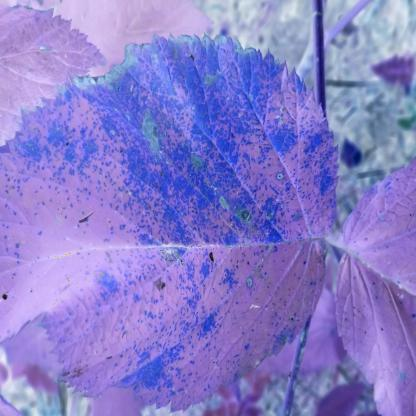Raspberry leaf: (0, 32, 346, 399)
